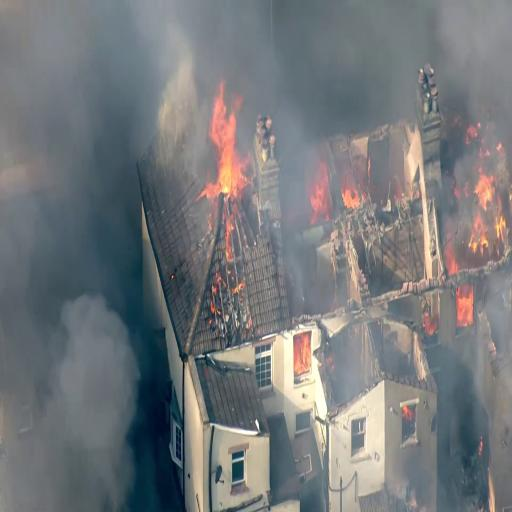fire: (459, 116, 512, 263), (193, 75, 251, 197), (302, 160, 334, 218), (454, 288, 471, 338), (296, 335, 310, 368)
smoke: (0, 0, 130, 272), (0, 286, 141, 512)
